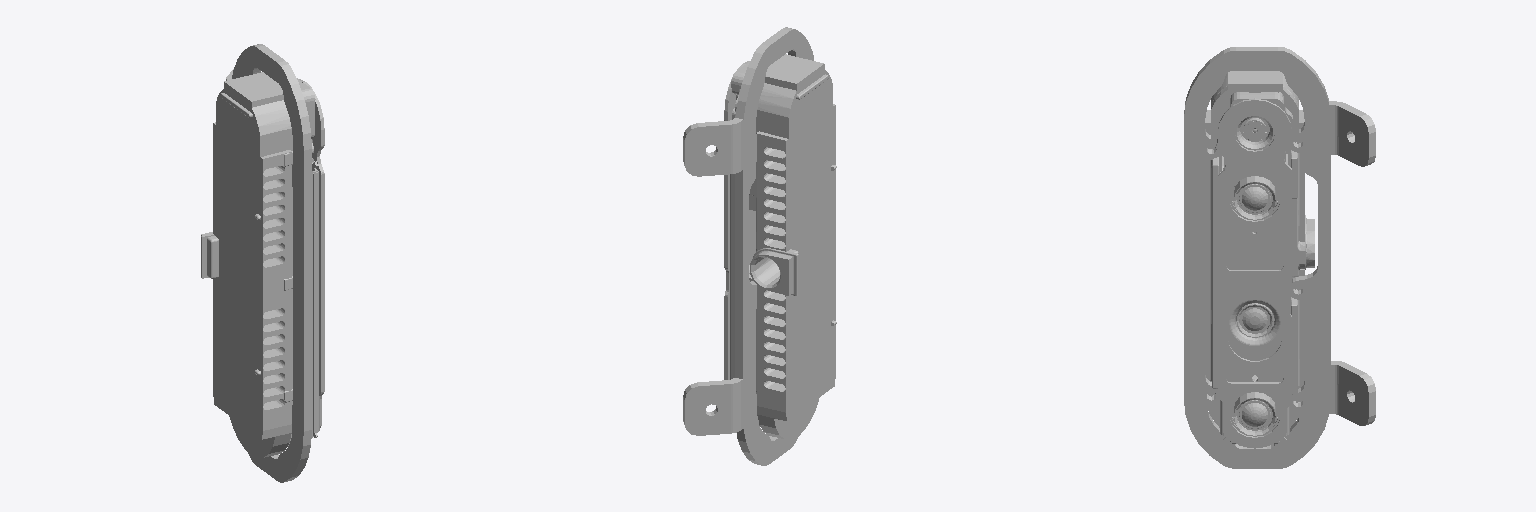
Rendered from camera_torso.obj.
The picture shows the model from 3 angles: view 1: azimuth 30°, elevation 25°; view 2: azimuth 150°, elevation 25°; view 3: azimuth 270°, elevation 25°; orthographic projection.
Visible parts, largest first — view 1: obj1; view 2: obj1; view 3: obj1.
Part boxes in pixels (x1,y1,x2,y2): obj1: (201,44,324,482); obj1: (683,27,836,465); obj1: (1184,47,1375,468).
Bounding box in the file's own units: 0.0205 × 0.0968 × 0.0403.